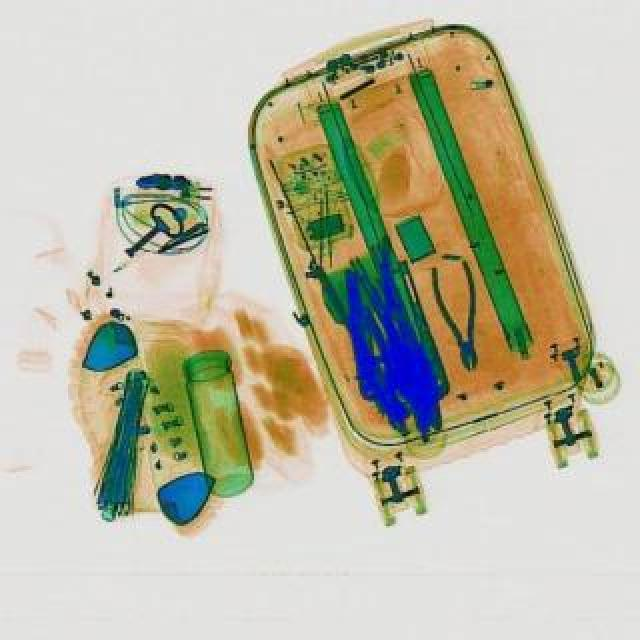wrench: (428, 262, 492, 374)
